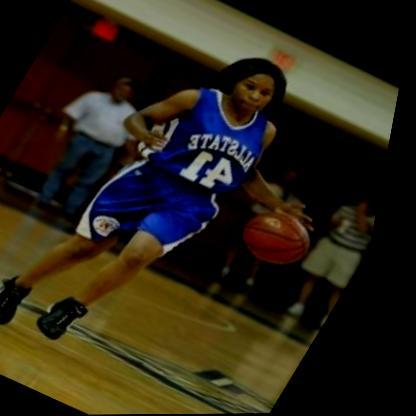basketball: (236, 203, 334, 276)
